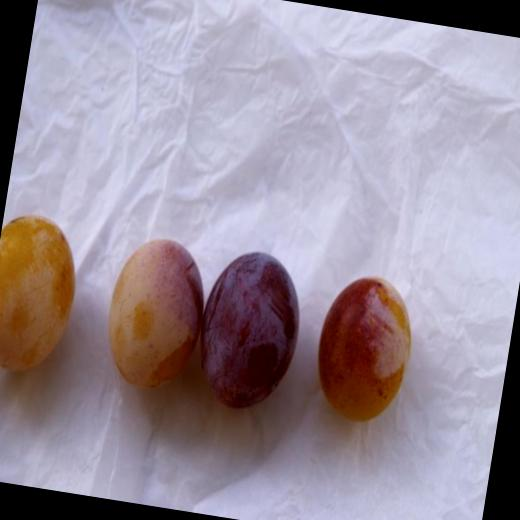Orange: (191, 242, 311, 416), (98, 231, 215, 399), (307, 272, 422, 429), (0, 213, 85, 378)
